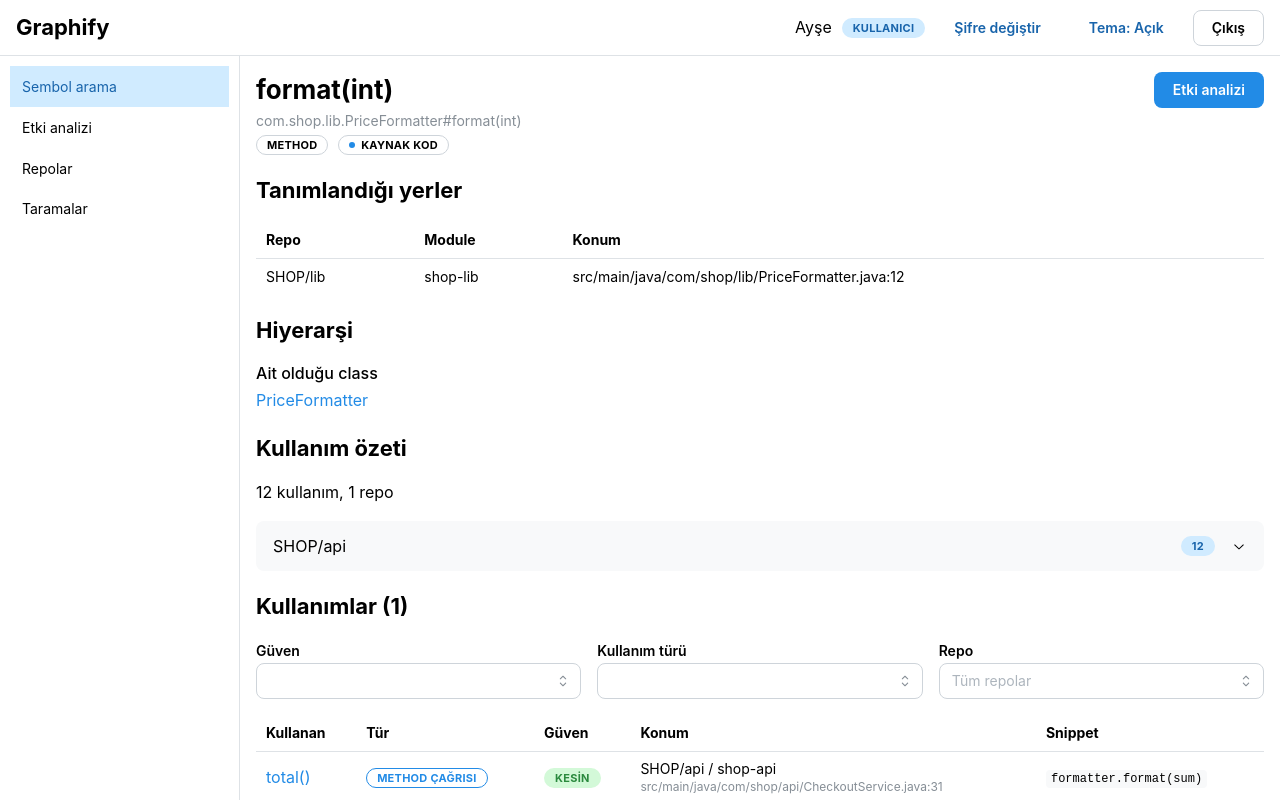
Test: symbol detail › the summary lists classes per module
The width and height of the screenshot is (1280, 800).
Click the text "SHOP/api" at coordinates (310, 546), box [273,534,346,558]
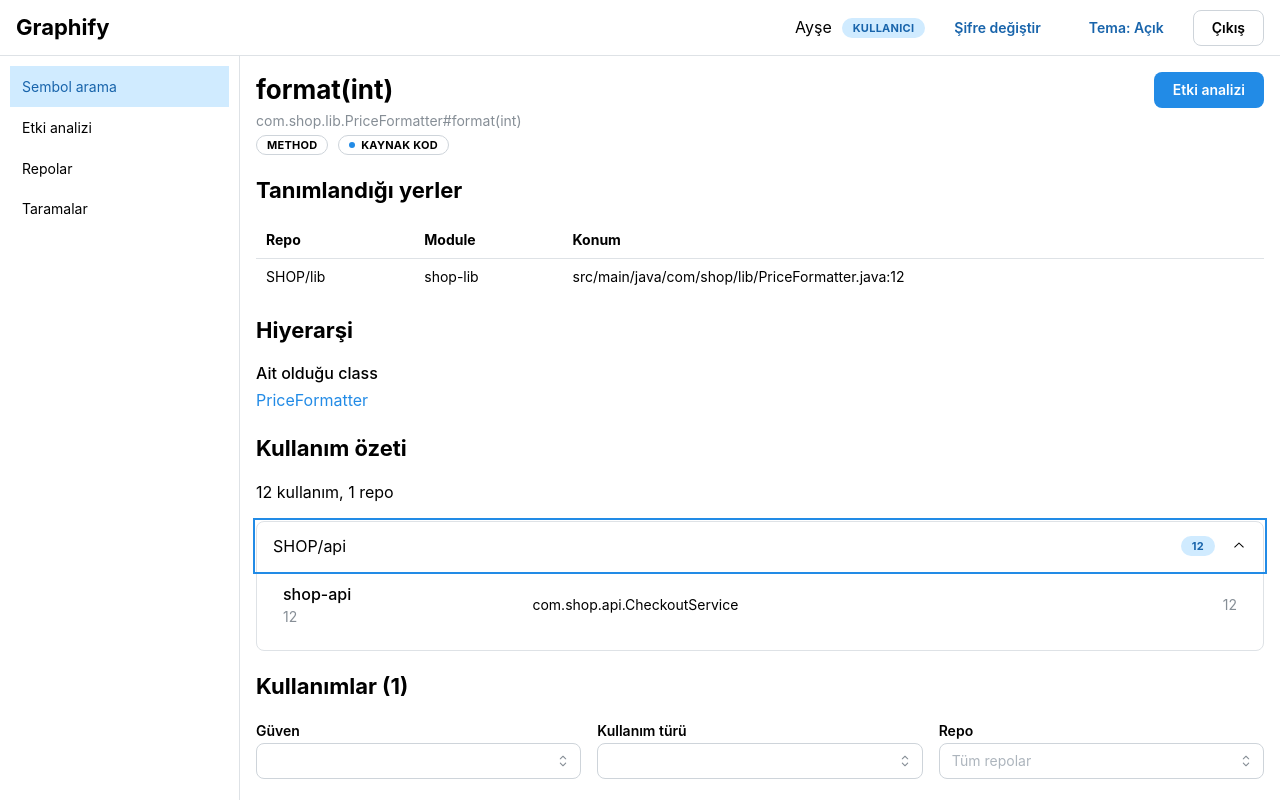
Now the text "com.shop.api.CheckoutService" is shown, box [532,595,738,615]
